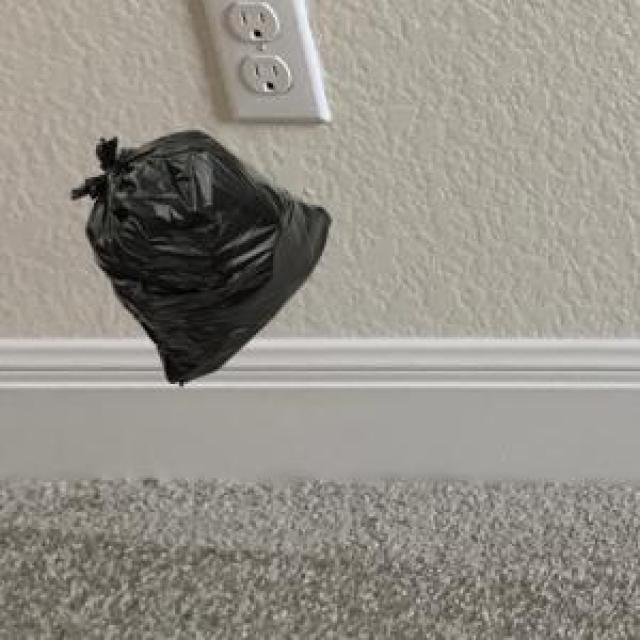miscellaneous trash: (68, 128, 326, 382)
